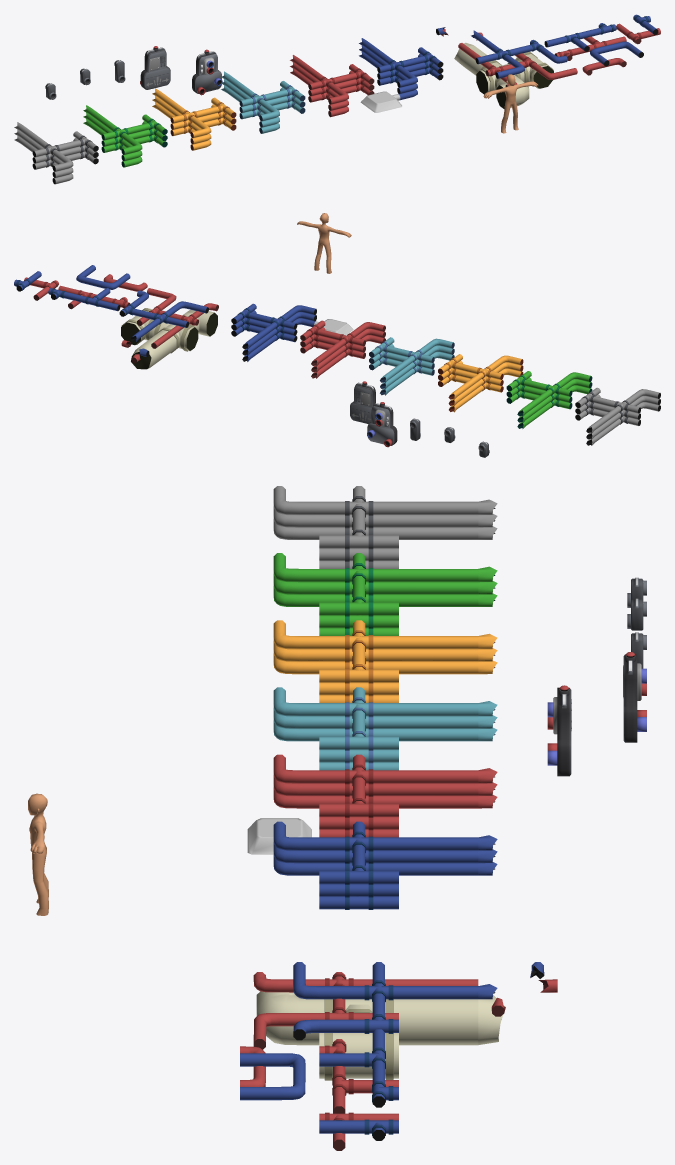
File: pipes.fbx
3 renders of one model, top to bottom at view 1: azimuth 30°, elevation 25°; view 2: azimuth 150°, elevation 25°; view 3: azimuth 270°, elevation 25°, orthographic. The views are drawn at different scales.
Visible parts, largest first — view 1: Layer Converter Sub-Top E / S, Layer Converter Sub-Top N / W, Body, ConnectorPort, Disposal T, Disposal X, Disposal L, Disposal I, Layer2 Red X.001, Layer1 Cyan X.002, Sub-Level Blue X, Layer2 Yellow X.001 (+15 smaller); view 2: Layer Converter Sub-Top E / S, Layer Converter Sub-Top N / W, Body, Disposal X, Disposal T, Disposal L, Disposal I, Layer2 Blue X.001, Sub-Level Blue T NEW, Layer2 Yellow X.001, Layer2 Green X.001, Layer1 Cyan X.002 (+3 smaller); view 3: Disposal I, Disposal T, Disposal L, Layer Converter Sub-Top N / W, Layer Converter Sub-Top E / S, Body, ConnectorPort, Layer2 Blue X.001, Sub-Level Blue X, Layer2 Red X.001, Layer1 Cyan X.002, Sub-Level Blue NES (+41 smaller).
Part boxes in pixels (<box>): Layer Converter Sub-Top E / S: <box>140,46,170,89</box>; Layer Converter Sub-Top N / W: <box>192,49,222,95</box>; Body: <box>483,74,538,133</box>; ConnectorPort: <box>360,91,401,112</box>; Disposal T: <box>515,51,553,88</box>; Disposal X: <box>476,60,522,94</box>; Disposal L: <box>496,75,529,109</box>; Disposal I: <box>459,45,486,75</box>; Layer2 Red X.001: <box>308,72,345,91</box>; Layer1 Cyan X.002: <box>239,89,276,108</box>; Sub-Level Blue X: <box>475,48,518,67</box>; Layer2 Yellow X.001: <box>170,106,208,125</box>; Layer Converter Sub-Top E / S: <box>367,402,397,447</box>; Layer Converter Sub-Top N / W: <box>350,381,375,423</box>; Body: <box>297,213,351,273</box>; Disposal X: <box>152,322,198,353</box>; Disposal T: <box>121,308,153,345</box>; Disposal L: <box>182,310,217,336</box>; Disposal I: <box>142,331,175,366</box>; Layer2 Blue X.001: <box>259,312,297,330</box>; Sub-Level Blue T NEW: <box>82,288,120,311</box>; Layer2 Yellow X.001: <box>466,362,503,381</box>; Layer2 Green X.001: <box>535,379,572,398</box>; Layer1 Cyan X.002: <box>397,345,434,364</box>; Disposal I: <box>399,999,478,1045</box>; Disposal T: <box>319,1033,398,1080</box>; Disposal L: <box>256,991,319,1045</box>; Layer Converter Sub-Top N / W: <box>547,685,571,776</box>; Layer Converter Sub-Top E / S: <box>623,652,646,742</box>; Body: <box>28,793,48,915</box>; ConnectorPort: <box>247,818,311,854</box>; Layer2 Blue X.001: <box>319,821,398,857</box>; Sub-Level Blue X: <box>319,962,398,1001</box>; Layer2 Red X.001: <box>319,754,398,790</box>; Layer1 Cyan X.002: <box>319,687,398,723</box>; Sub-Level Blue NES: <box>319,995,398,1033</box>.
Bounding box in the file's own units: 18 × 2.51 × 7.79.
